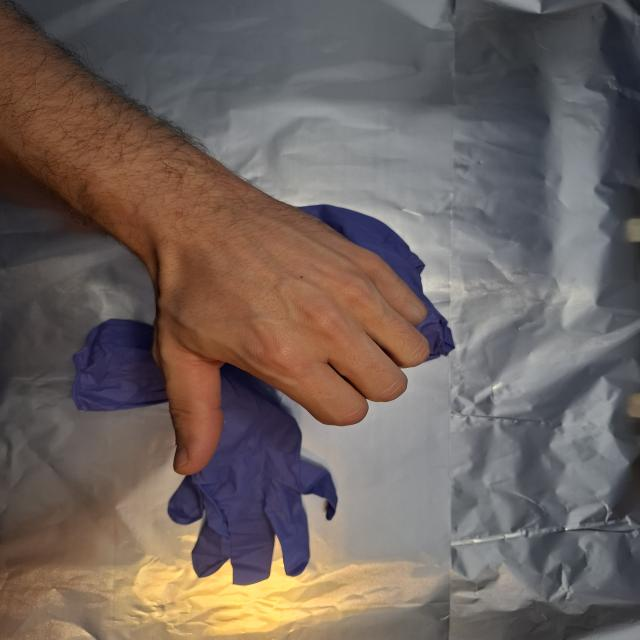glove_off: (147, 207, 433, 477)
